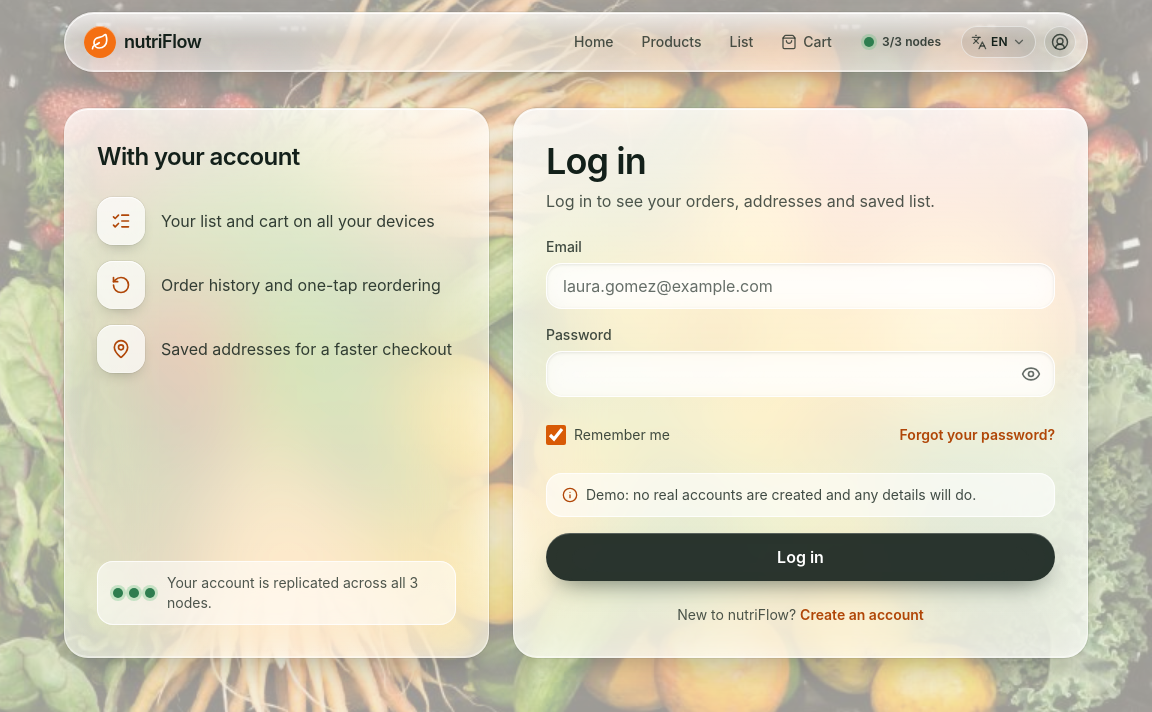
Test: Account › logs in to the demo profile
Expected: the heading "Log in" is shown, x1=546 y1=139 x2=646 y2=183
Step 1. Type "ada@example.com" into the field labelled "Email" → (800, 286), box x1=546 y1=263 x2=1055 y2=309
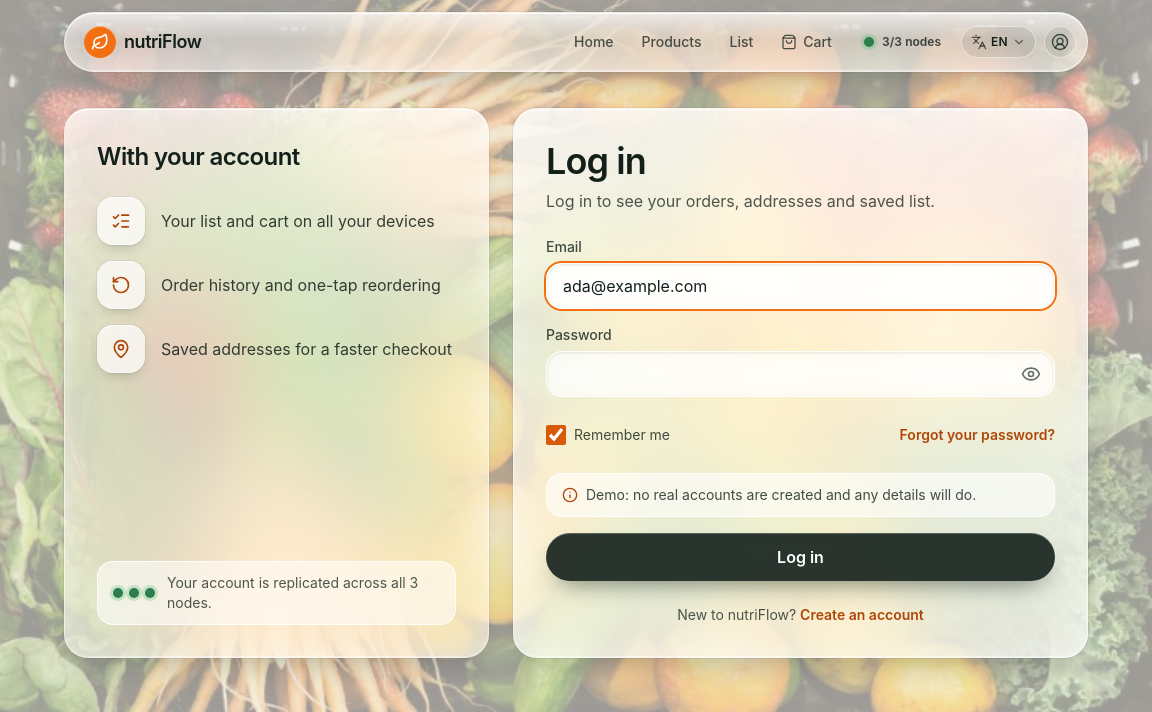
Step 2. Type "secret123" into the password field labelled "Password" → (800, 374), box x1=546 y1=351 x2=1055 y2=397
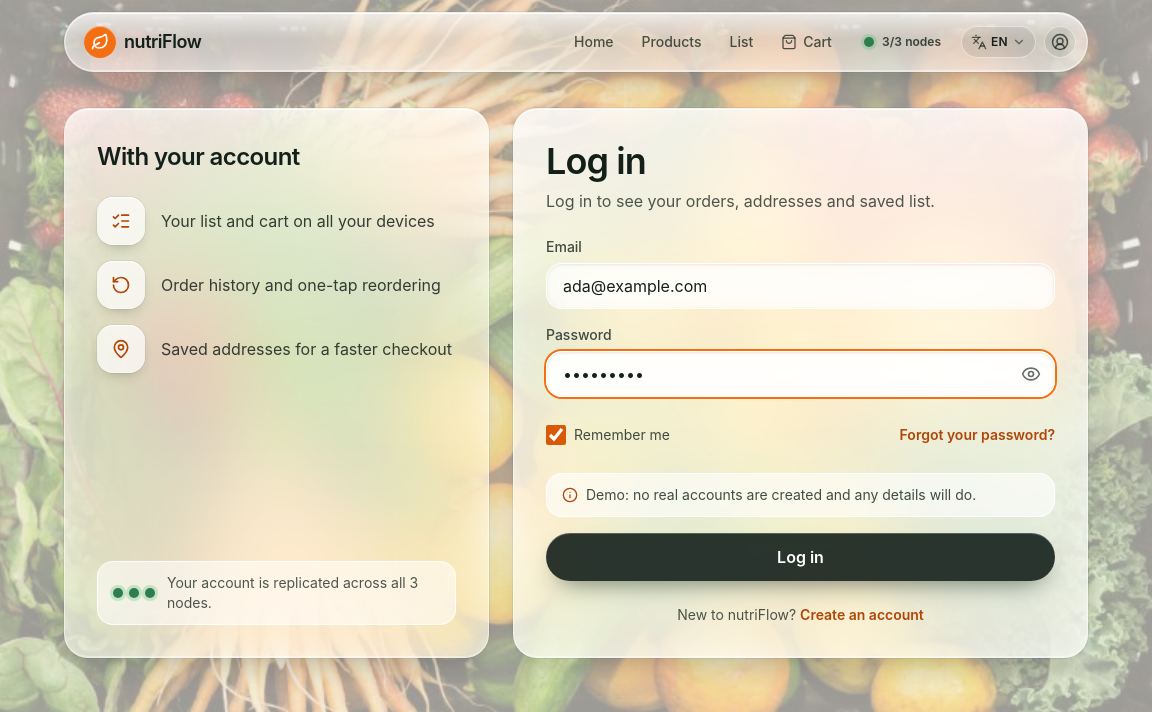
Step 3. Click the button named "Show password" → (1031, 374), box x1=1011 y1=354 x2=1051 y2=394
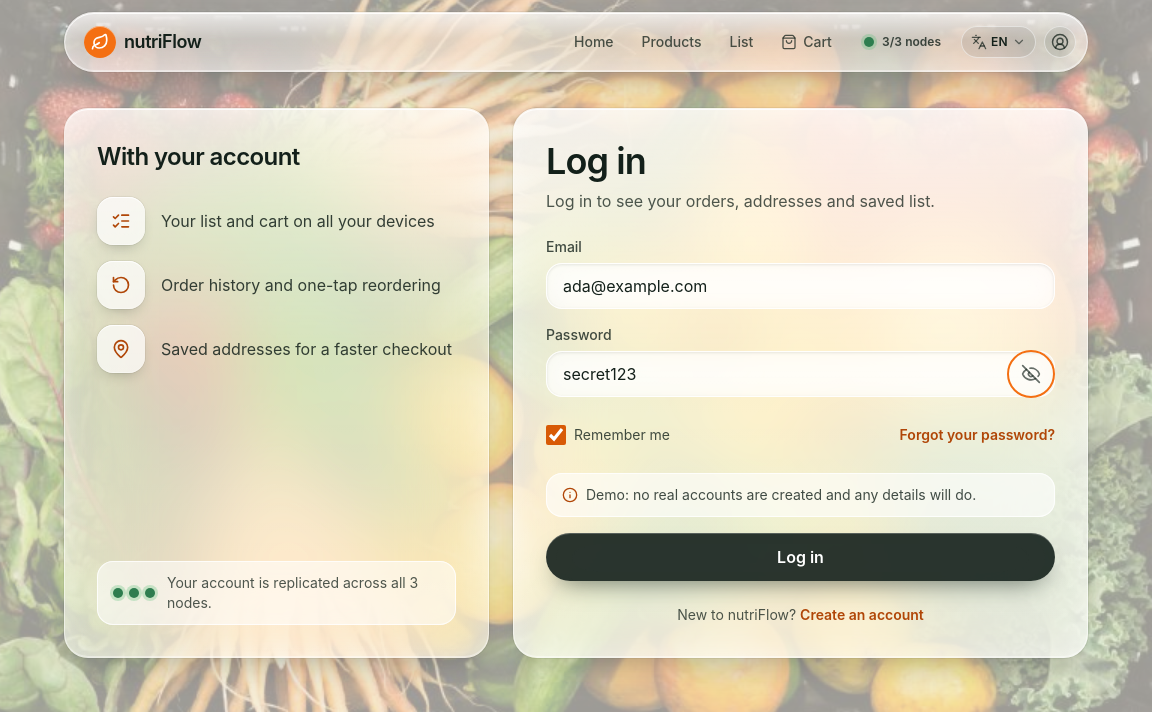
Result: the field labelled "Password" shows its text at x1=546 y1=351 x2=1055 y2=397
Step 4. Click the button "Log in" → (800, 557), box x1=546 y1=533 x2=1055 y2=581
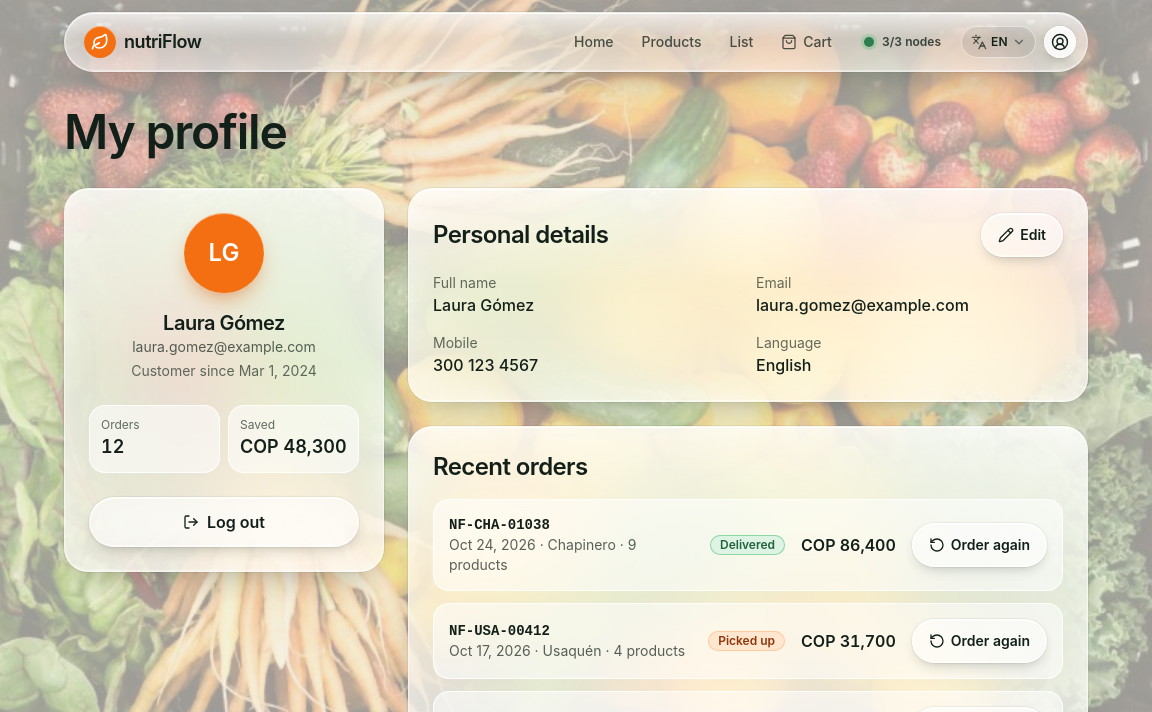
Result: the heading "My profile" is shown at x1=64 y1=102 x2=287 y2=161
